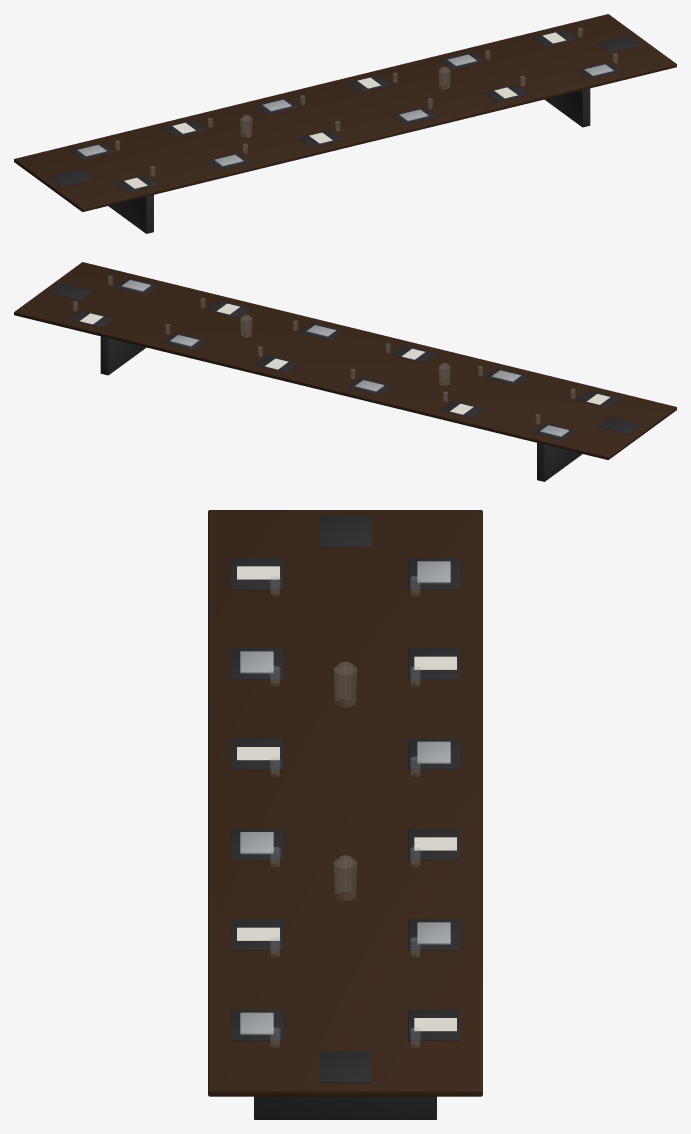
The model's file is vantage_board_table.glb.
3 views of the same model, one above another, from view 1: azimuth 30°, elevation 25°; view 2: azimuth 150°, elevation 25°; view 3: azimuth 270°, elevation 25° (orthographic). The views are drawn at different scales.
Visible parts, largest first — view 1: vantage_board_table; view 2: vantage_board_table; view 3: vantage_board_table.
Part boxes in pixels (x1=…): vantage_board_table: x1=14, y1=14, x2=676, y2=233; vantage_board_table: x1=14, y1=262, x2=676, y2=481; vantage_board_table: x1=208, y1=510, x2=482, y2=1119.
Size of the model in its own units: 9 by 1.03 by 1.8.
